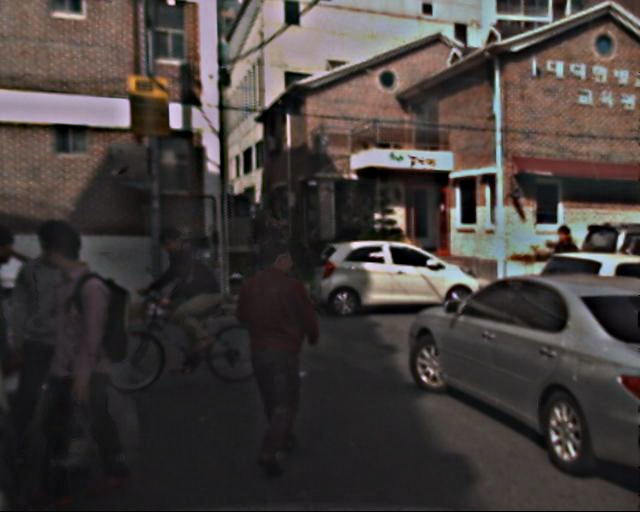person: (1, 229, 124, 482), (235, 246, 327, 470), (159, 229, 211, 356), (539, 221, 591, 347), (265, 212, 297, 289)
